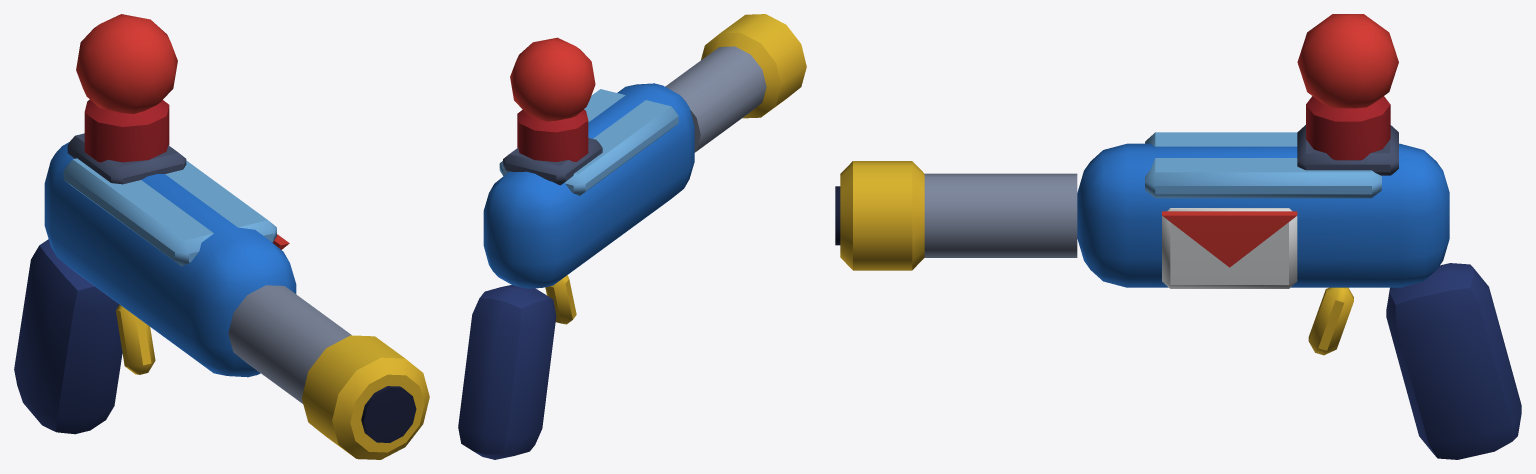
Rendered from w_j_pistol.glb.
The picture shows the model from 3 angles, left to right: view 1: azimuth 30°, elevation 25°; view 2: azimuth 150°, elevation 25°; view 3: azimuth 270°, elevation 25°; orthographic projection. The views are drawn at different scales.
Parts seen in each view (by area): view 1: body; view 2: body; view 3: body.
Boxes of the visible parts, x1,y1,x2,y2 form: body: [14, 14, 429, 459]; body: [458, 14, 806, 459]; body: [835, 14, 1521, 459].
Size of the model in its own units: 0.0867 by 0.3145 by 0.446.
